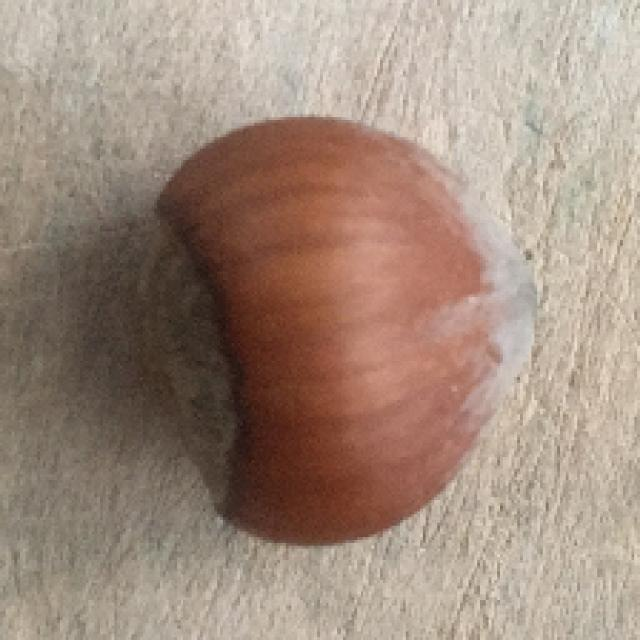qualityHazelnut: (145, 112, 542, 545)
